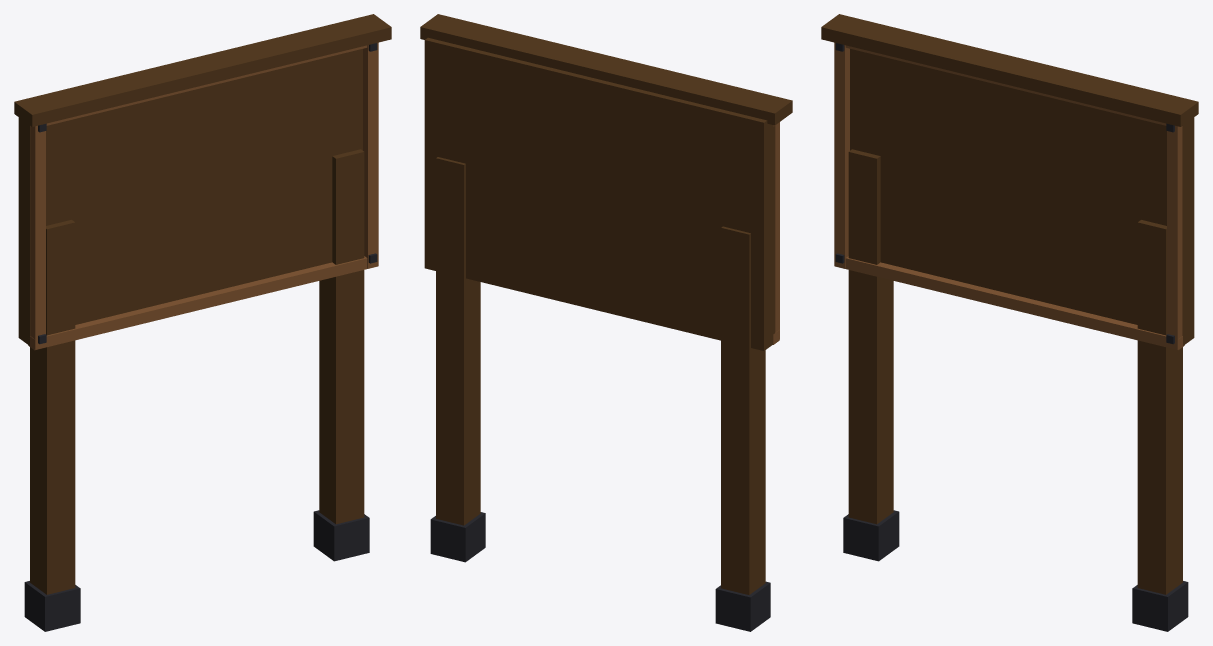
The model's file is mia-tide_board.glb.
The picture shows the model from 3 angles, left to right: view 1: azimuth 30°, elevation 25°; view 2: azimuth 150°, elevation 25°; view 3: azimuth 330°, elevation 25°; orthographic projection.
Parts seen in each view (by area): view 1: Body_wood, Body_oak, Body_iron; view 2: Body_wood, Body_iron, Body_oak; view 3: Body_wood, Body_oak, Body_iron.
Boxes of the visible parts, x1=… form: Body_wood: x1=14, y1=14, x2=391, y2=594; Body_oak: x1=28, y1=42, x2=378, y2=350; Body_iron: x1=24, y1=43, x2=377, y2=631; Body_wood: x1=420, y1=14, x2=792, y2=594; Body_iron: x1=430, y1=512, x2=770, y2=631; Body_oak: x1=773, y1=122, x2=779, y2=344; Body_wood: x1=821, y1=14, x2=1198, y2=594; Body_oak: x1=834, y1=42, x2=1184, y2=350; Body_iron: x1=835, y1=43, x2=1188, y2=631.
Size of the model in its own units: 1.45 by 2.03 by 0.1755.
